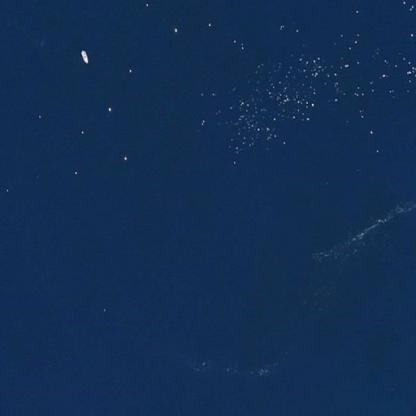ship: (76, 44, 92, 66)
